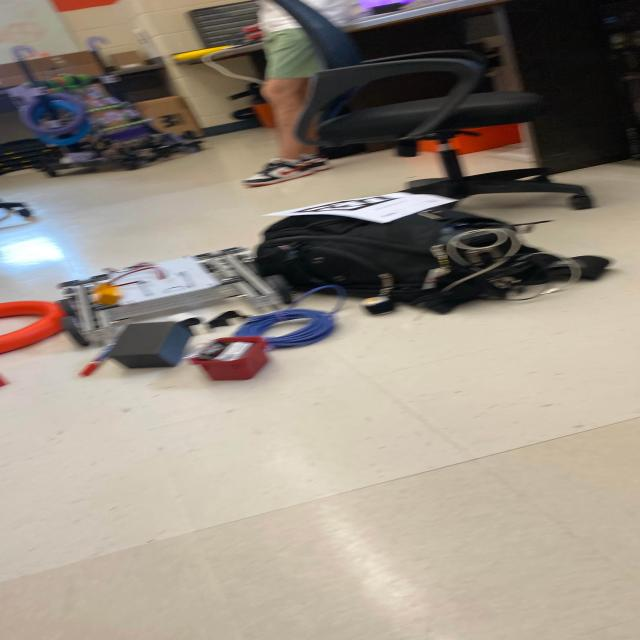red-specimen: (0, 373, 8, 387)
yellow-specimen: (91, 284, 122, 306)
